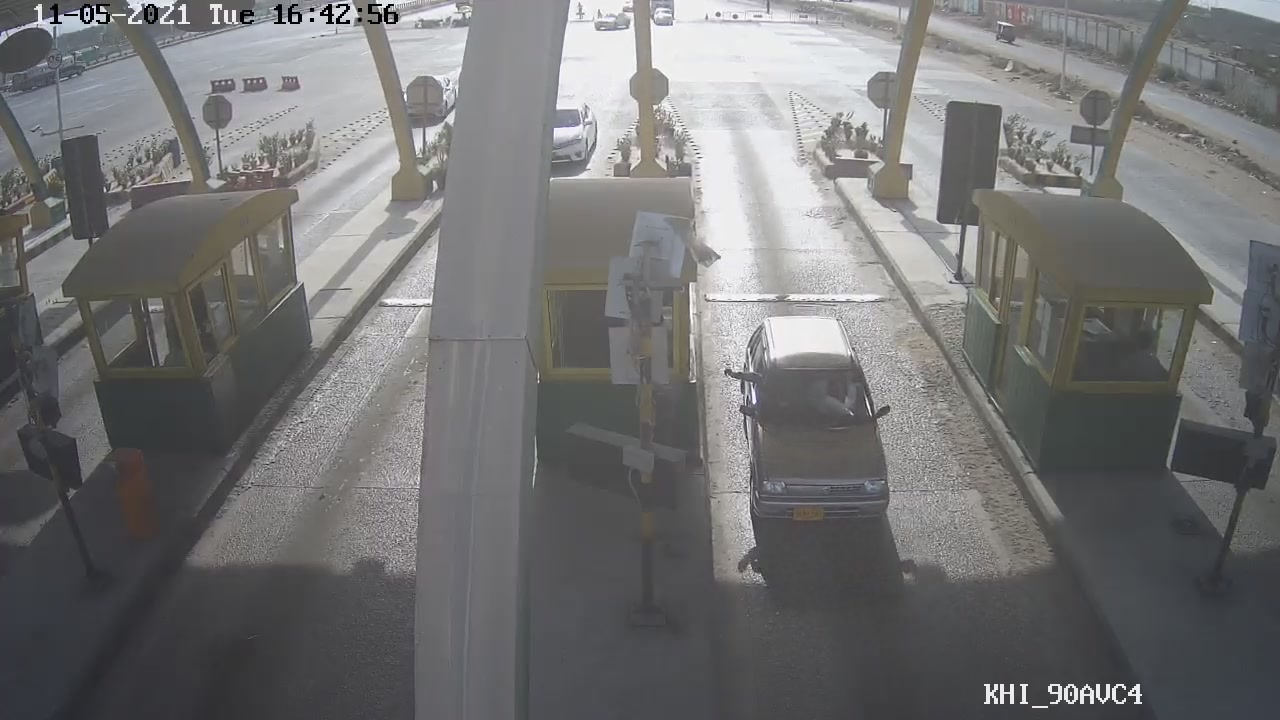F1: (732, 301, 905, 541)
